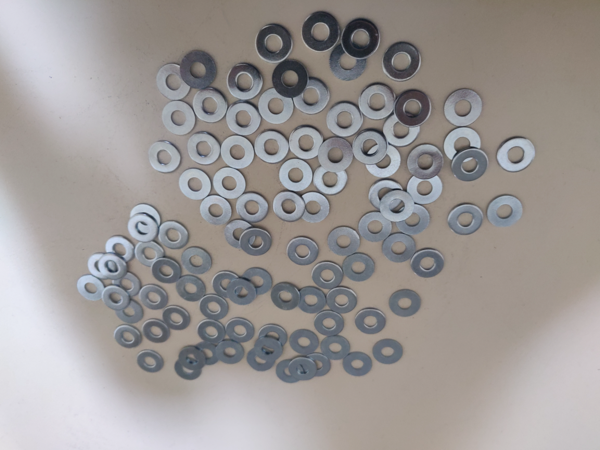circle: (441, 87, 486, 129), (382, 40, 424, 83), (341, 19, 382, 60), (301, 12, 341, 53), (328, 42, 368, 82), (393, 89, 433, 128), (255, 24, 294, 63), (443, 127, 483, 165), (382, 110, 420, 149), (271, 60, 309, 98), (358, 83, 396, 121), (181, 50, 218, 89), (227, 61, 263, 101), (191, 86, 229, 123), (497, 137, 536, 173), (325, 102, 363, 138), (291, 79, 330, 114), (452, 147, 490, 182), (258, 88, 294, 124), (319, 136, 354, 173), (447, 203, 485, 237), (227, 98, 261, 136), (157, 63, 191, 101), (487, 195, 526, 228), (253, 130, 289, 165), (369, 178, 405, 213), (353, 130, 389, 165), (286, 125, 323, 159), (161, 100, 196, 135), (186, 131, 221, 166), (366, 144, 401, 179), (325, 283, 360, 318), (407, 172, 443, 206), (214, 163, 246, 201), (220, 135, 255, 169), (396, 202, 430, 237), (380, 189, 415, 223), (314, 162, 348, 197), (357, 210, 393, 243), (409, 145, 443, 179), (201, 193, 234, 228), (273, 190, 307, 223), (237, 192, 270, 226), (278, 160, 313, 192), (179, 169, 212, 202), (299, 191, 331, 225), (148, 141, 181, 173), (382, 233, 416, 264), (389, 290, 424, 319), (354, 308, 389, 337), (225, 221, 258, 251), (312, 261, 346, 290), (411, 249, 444, 278), (286, 238, 320, 266), (371, 339, 405, 367), (242, 267, 273, 297), (158, 221, 189, 251), (105, 235, 135, 266), (343, 254, 375, 283), (128, 214, 160, 243), (225, 278, 258, 306), (210, 271, 244, 298), (239, 230, 274, 256), (132, 203, 162, 233), (328, 229, 360, 257), (181, 248, 214, 275), (256, 323, 289, 350), (271, 282, 300, 312), (320, 335, 351, 362), (134, 241, 165, 268), (342, 352, 374, 378), (289, 329, 321, 355), (88, 252, 117, 280), (314, 311, 344, 338), (297, 287, 327, 314), (98, 254, 128, 281), (113, 299, 144, 325), (287, 355, 318, 381), (109, 272, 142, 296), (77, 275, 105, 303), (177, 275, 206, 302), (225, 317, 255, 343), (255, 337, 285, 363), (248, 347, 276, 374), (162, 306, 191, 332), (216, 339, 245, 365), (199, 295, 229, 320), (142, 319, 172, 344), (302, 353, 332, 378), (141, 285, 169, 311), (193, 341, 221, 367), (276, 360, 304, 386), (152, 259, 181, 283), (177, 347, 206, 371), (198, 319, 225, 344), (102, 286, 129, 311), (137, 350, 165, 374), (175, 357, 203, 381), (115, 326, 142, 349)
